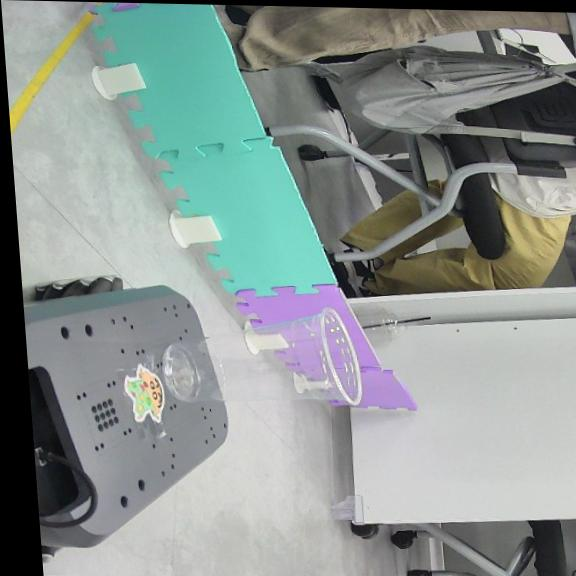Plastik: (161, 308, 362, 406)
